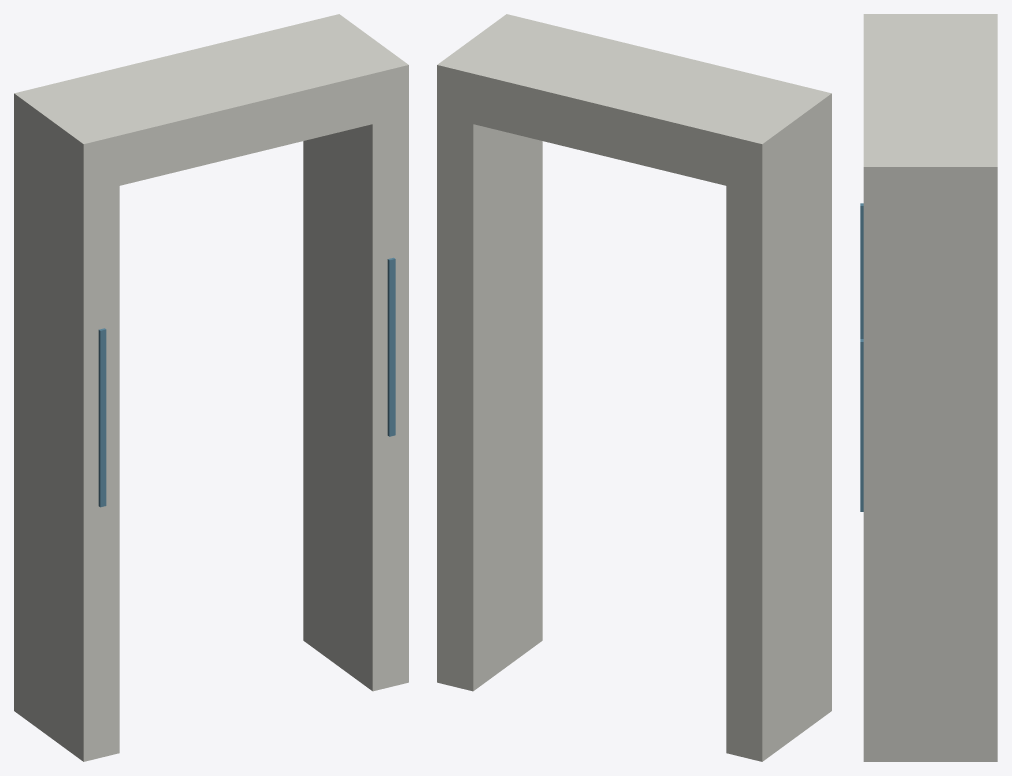
File: american-football-stadium-kit-security-portal-4d335a45__22356.glb
3 renders of one model, left to right at view 1: azimuth 30°, elevation 25°; view 2: azimuth 150°, elevation 25°; view 3: azimuth 270°, elevation 25°, orthographic. The views are drawn at different scales.
Visible parts, largest first — view 1: security-portal; view 2: security-portal; view 3: security-portal.
Part boxes in pixels (x1,y1,x2,y2): security-portal: [14, 14, 408, 761]; security-portal: [437, 14, 831, 761]; security-portal: [860, 14, 997, 761].
Bounding box in the file's own units: 1.35 × 2.45 × 0.512.
